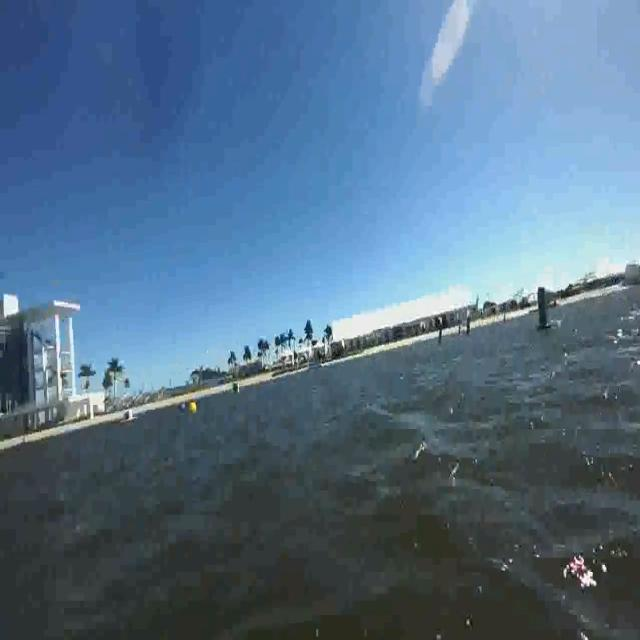green-column-buoy: (534, 286, 552, 333)
yellow-buoy: (188, 399, 197, 414)
